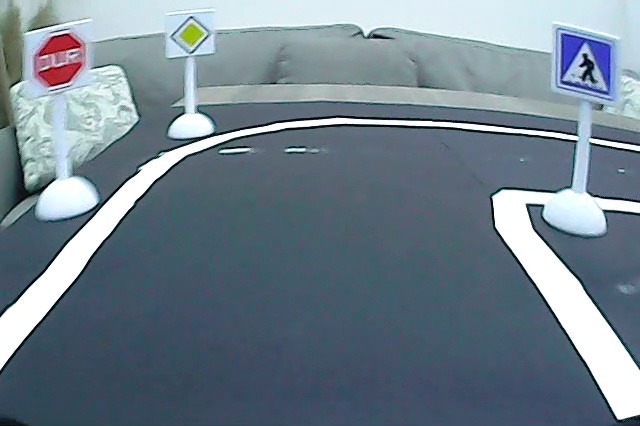pedestrian crossing: (556, 27, 617, 101)
stop sign: (30, 27, 89, 91)
